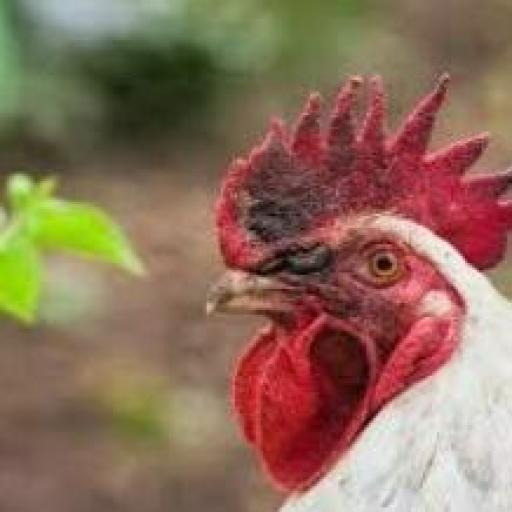disease: (222, 154, 398, 288)
